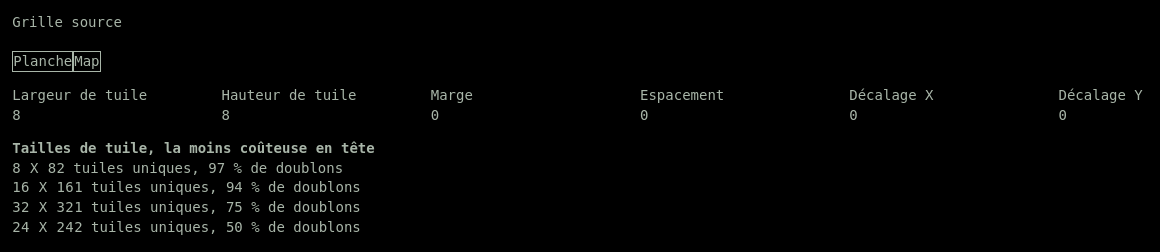
TilesetGridPanel › cuts at a shortlisted size when it is picked
Step 1. Click the button "16 x 16" → (43, 188), box [12,178,74,198]
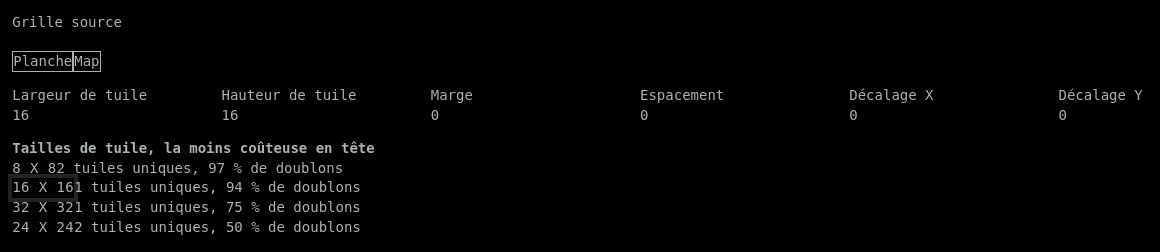
expect the number field labelled "Largeur de tuile" holds "16": met, box [12,106,222,125]
